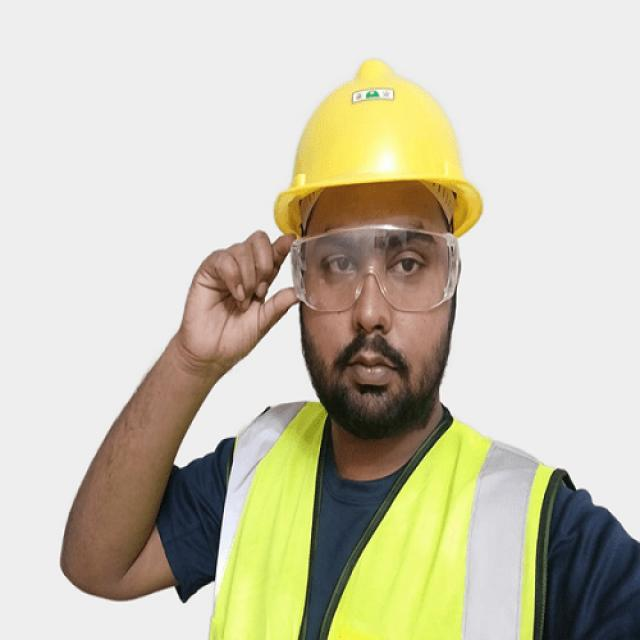Helmet: (267, 62, 488, 222)
Protective Glasses: (279, 227, 473, 317)
Vest: (223, 387, 567, 640)
